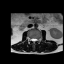CCS_normal: (33, 36, 34, 45)
LFS_normal: (37, 36, 39, 43)
LLS_normal: (34, 36, 37, 43)
RFS_normal: (28, 36, 31, 42)
RLS_normal: (31, 37, 33, 43)
